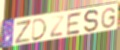D: (31, 17, 49, 42)
E: (65, 11, 83, 37)
G: (100, 7, 117, 30)
S: (83, 9, 100, 35)
Z: (14, 19, 31, 45), (49, 15, 66, 39)
